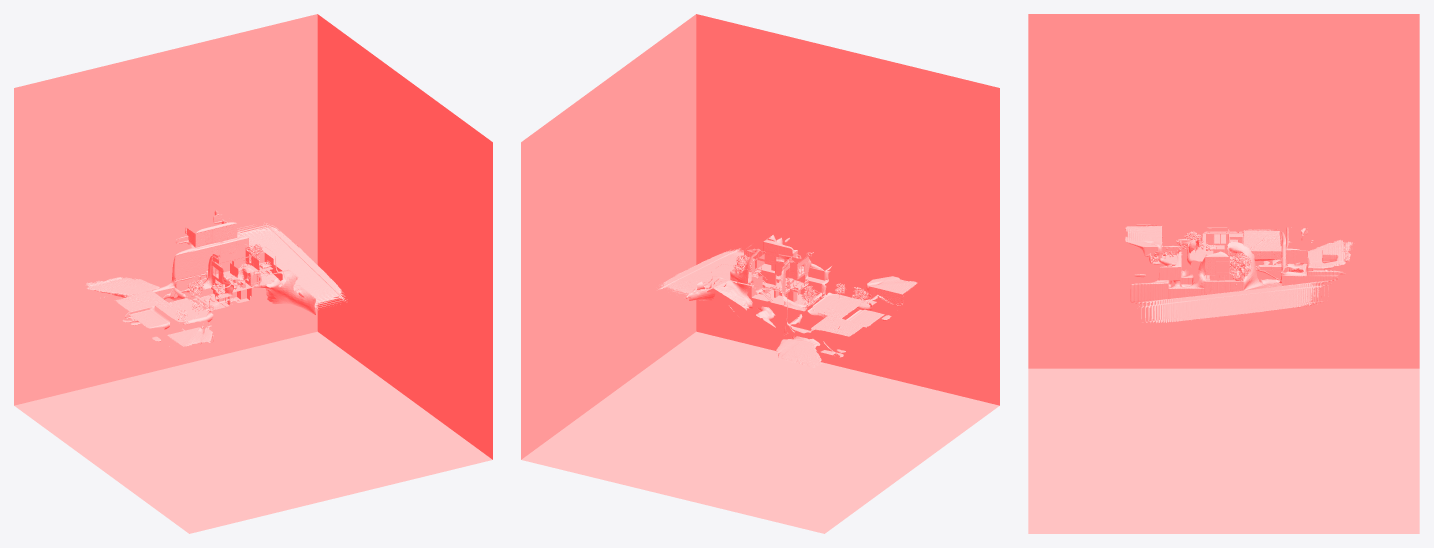
The picture shows the model from 3 angles, left to right: view 1: azimuth 30°, elevation 25°; view 2: azimuth 150°, elevation 25°; view 3: azimuth 270°, elevation 25°; orthographic projection. The views are drawn at different scales.
Visible parts, largest first — view 1: LayamaNode; view 2: LayamaNode; view 3: LayamaNode.
Boxes of the visible parts, left/top/right/bottom form: LayamaNode: left=14, top=14, right=492, bottom=533; LayamaNode: left=521, top=14, right=999, bottom=533; LayamaNode: left=1028, top=14, right=1419, bottom=533.
Size of the model in its own units: 8184 by 8184 by 8184.
